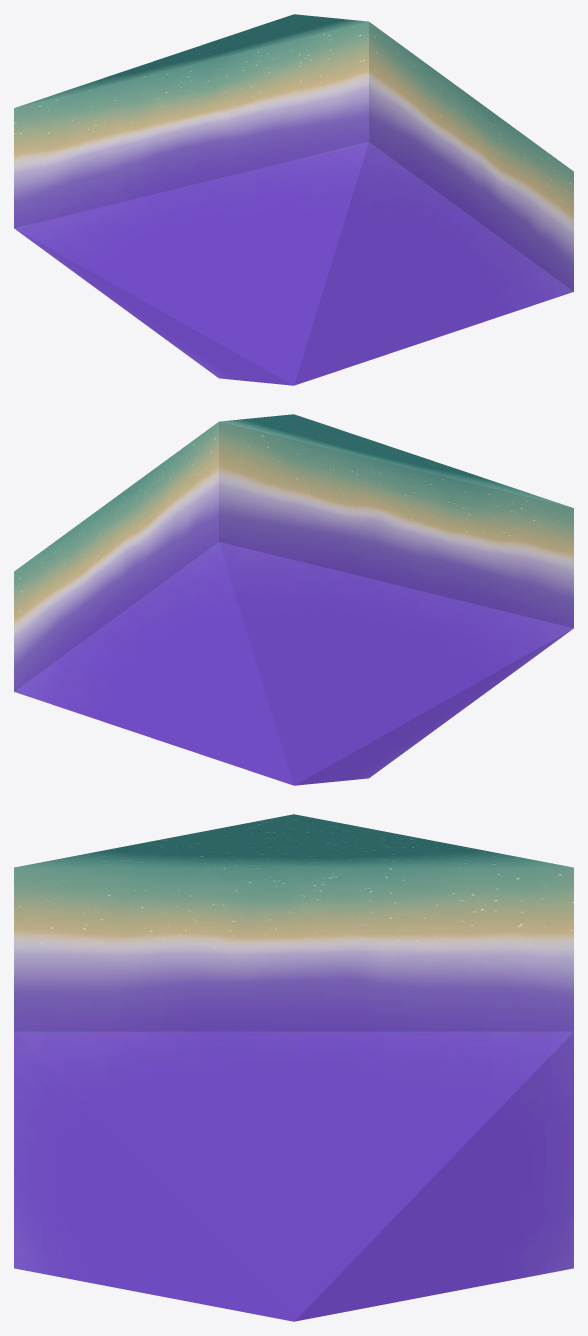
Rendered from sky_fantasy.glb.
The picture shows the model from 3 angles, top to bottom: view 1: azimuth 30°, elevation 25°; view 2: azimuth 150°, elevation 25°; view 3: azimuth 270°, elevation 25°; orthographic projection. The views are drawn at different scales.
Visible parts, largest first — view 1: Cube; view 2: Cube; view 3: Cube.
Boxes of the visible parts, x1,y1,x2,y2 form: Cube: (14,14,573,385); Cube: (14,414,573,785); Cube: (14,814,573,1321).
Bounding box in the file's own units: 4.48 × 4.48 × 4.48.
1 material, 1 textured.
